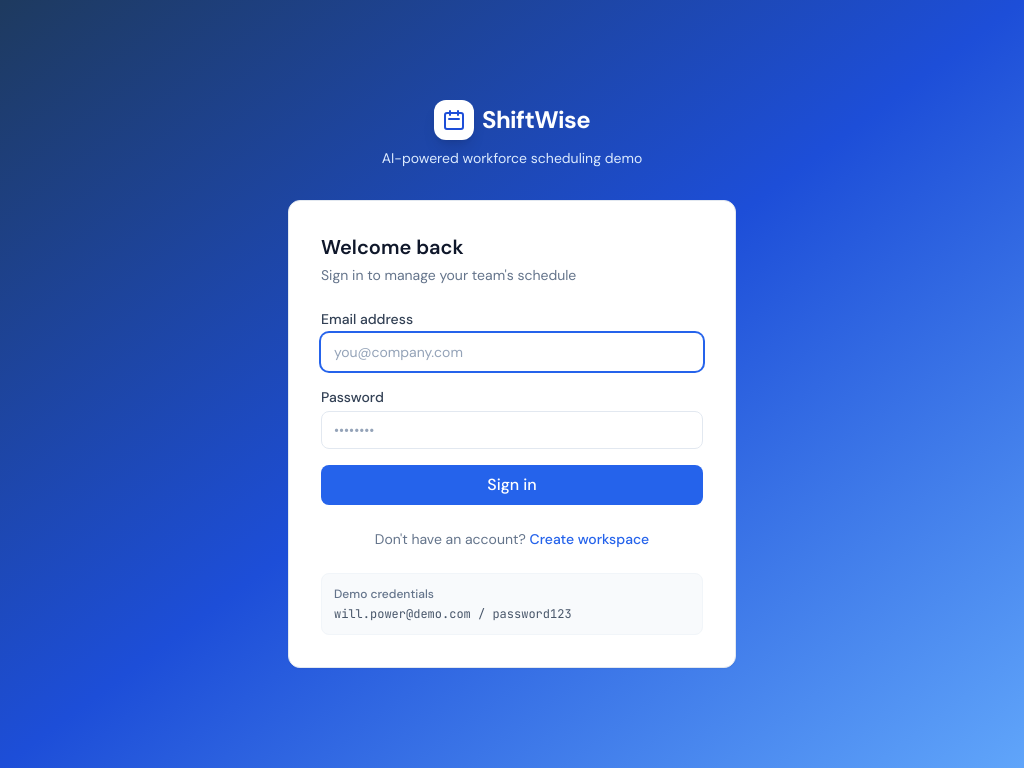
Scenario: LoginPage › shows error message on invalid credentials
In the field with placeholder "you@company.com": x=512, y=352 [321,333,703,371], type "wrong@demo.com"
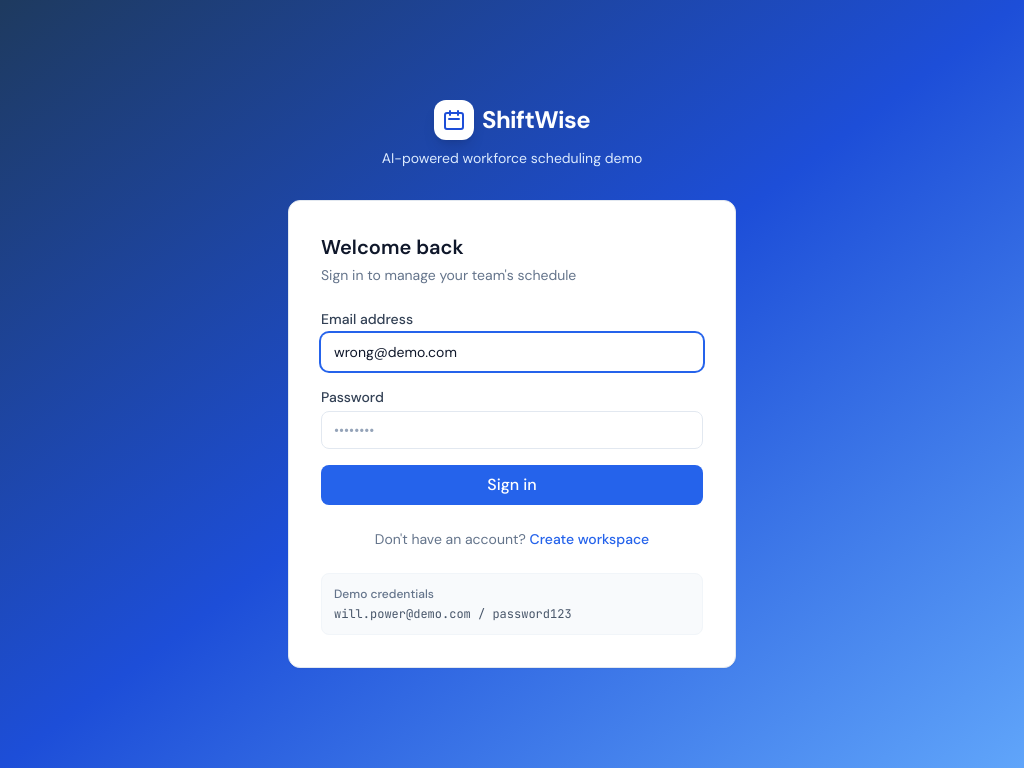
In the password field with placeholder "••••••••": x=512, y=430 [321,411,703,449], type "wrongpassword"
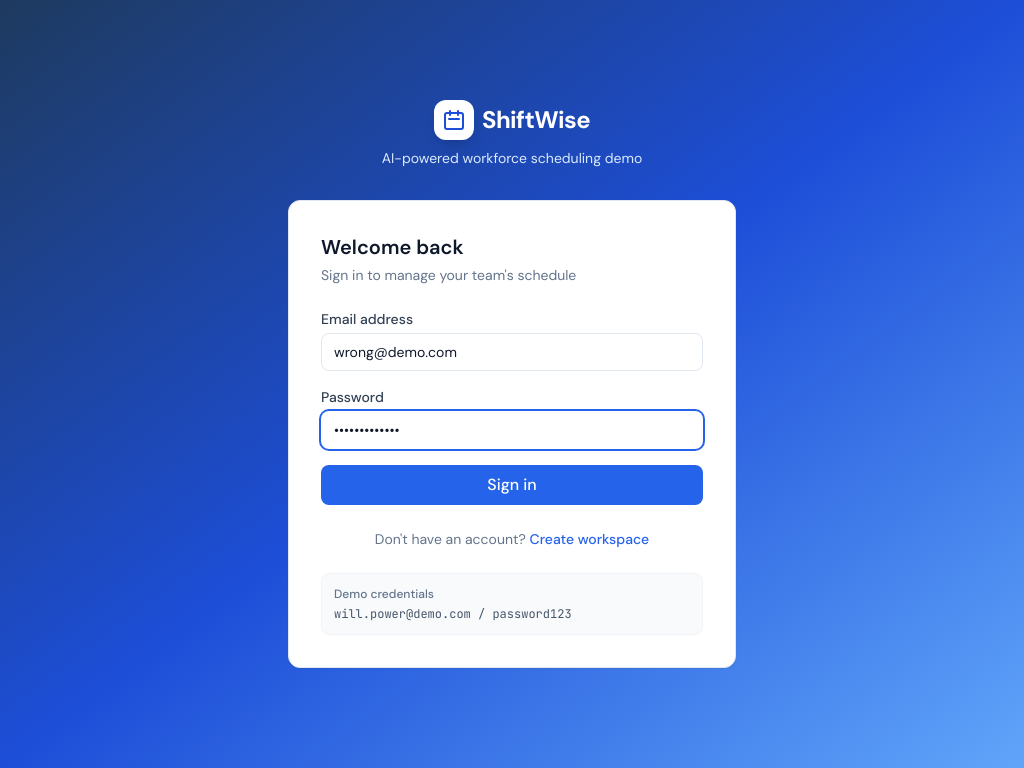
Click the button "Sign in": x=512, y=485 [321,465,703,505]
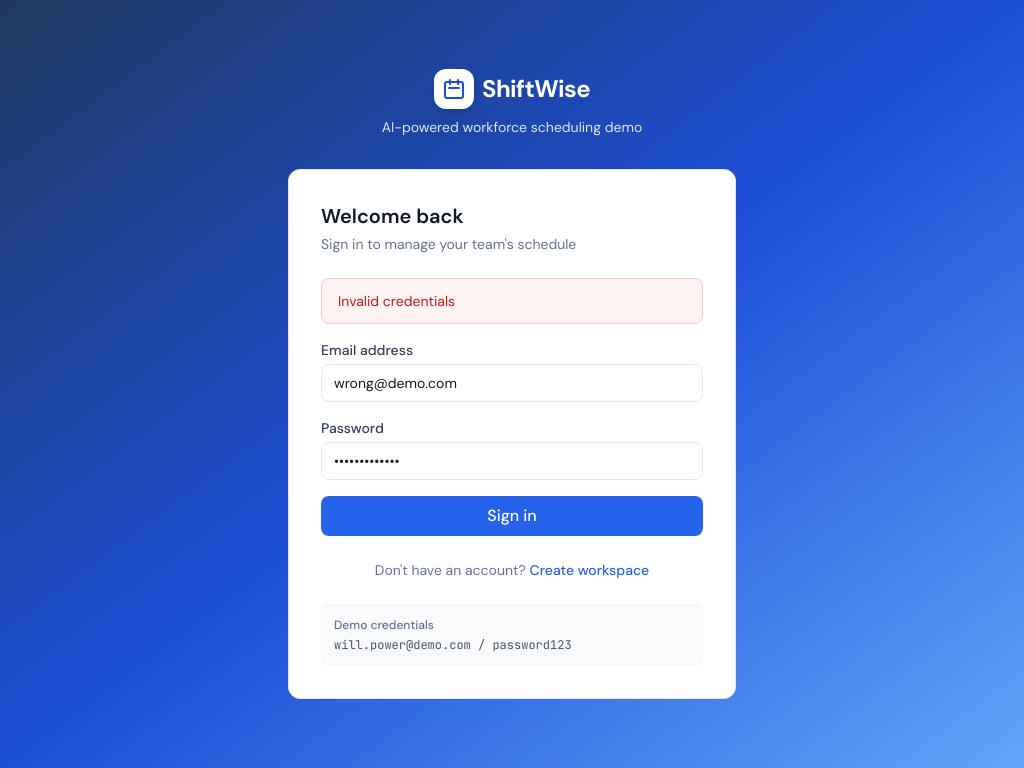
Now the text "Invalid credentials" is shown, box [321,278,703,324]
